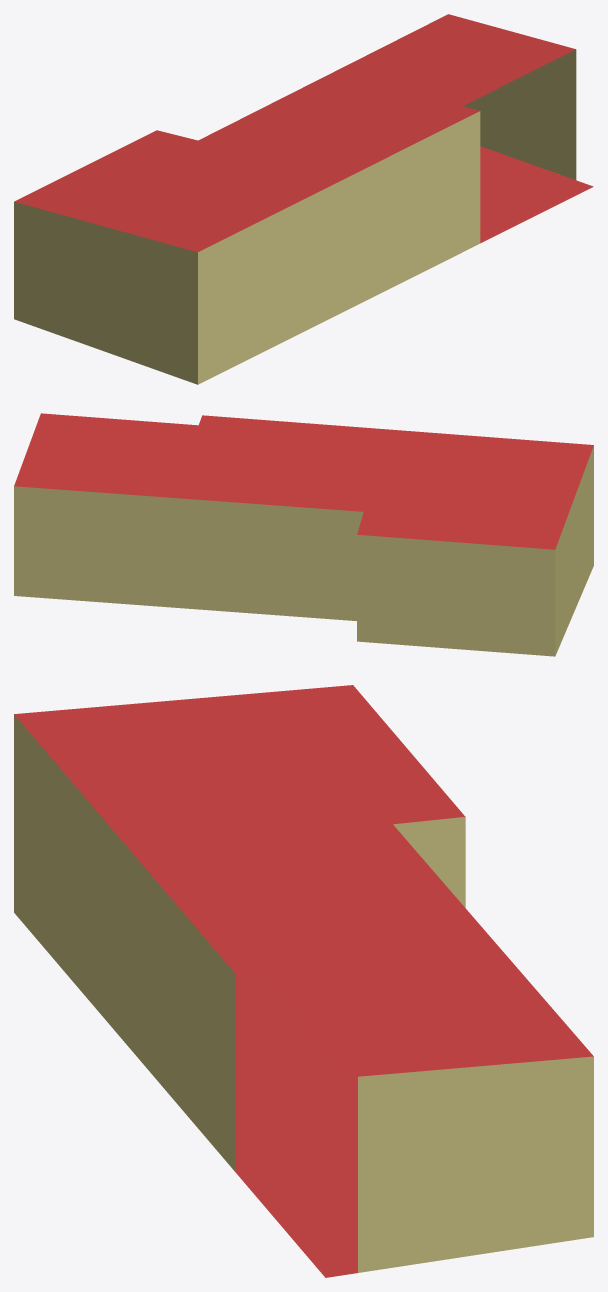
3 views of the same model, one above another, from view 1: azimuth 30°, elevation 25°; view 2: azimuth 150°, elevation 25°; view 3: azimuth 270°, elevation 25° (orthographic). The views are drawn at different scales.
Visible parts, largest first — view 1: group_4, group_3, group_5; view 2: group_4, group_3; view 3: group_3, group_4, group_5.
Part boxes in pixels (x1,y1,x2,y2): group_4: (14, 49, 576, 384); group_3: (14, 14, 575, 252); group_5: (480, 146, 593, 243); group_4: (14, 446, 593, 656); group_3: (14, 413, 593, 549); group_3: (14, 685, 593, 1076); group_4: (14, 714, 593, 1272); group_5: (236, 972, 357, 1277).
Bounding box in the file's own units: 29.25 × 17.19 × 6.49.
